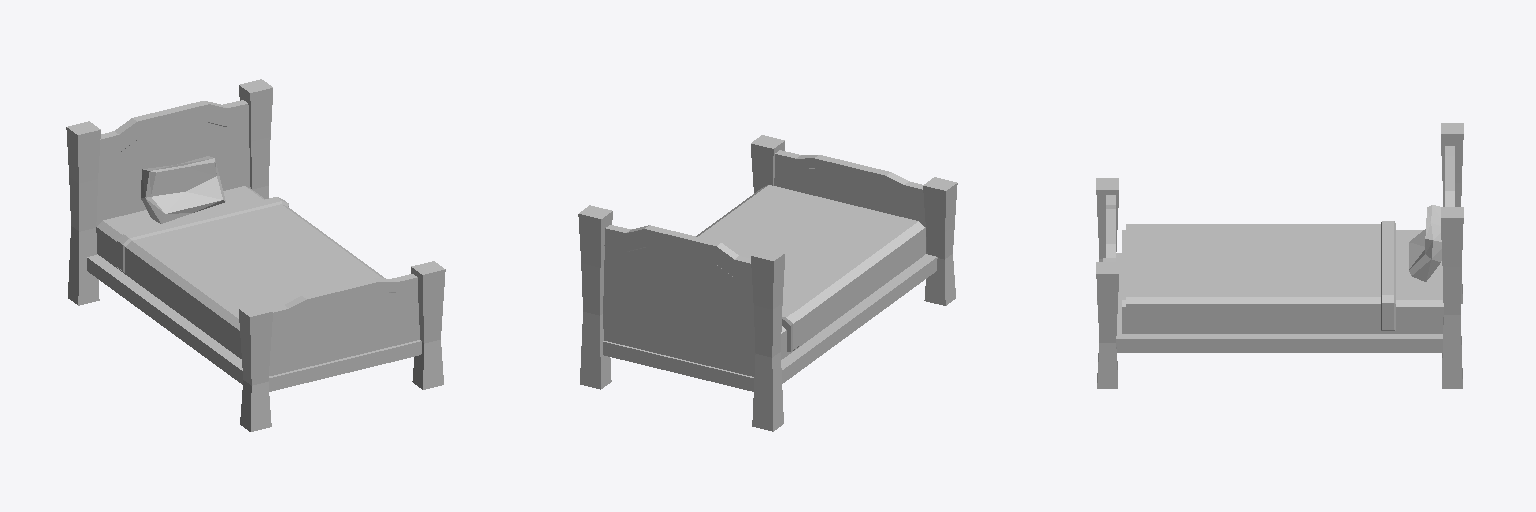
File: bed1.obj
3 views of the same model, side by side, from view 1: azimuth 30°, elevation 25°; view 2: azimuth 150°, elevation 25°; view 3: azimuth 270°, elevation 25° (orthographic).
Parts seen in each view (by area): view 1: Bed_1_Cube.002; view 2: Bed_1_Cube.002; view 3: Bed_1_Cube.002.
Boxes of the visible parts, box(x1,y1,x2,y2) form: Bed_1_Cube.002: box(66, 79, 445, 431); Bed_1_Cube.002: box(578, 135, 957, 431); Bed_1_Cube.002: box(1096, 123, 1463, 388).
Size of the model in its own units: 1.44 by 1.21 by 2.34.